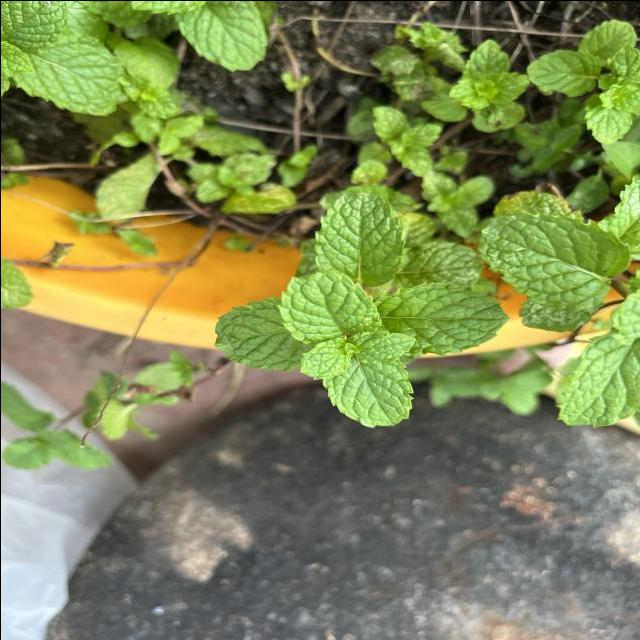Mentha spicata: (474, 211, 631, 313), (384, 280, 511, 358), (311, 191, 405, 288), (274, 268, 380, 342), (320, 356, 414, 429)
